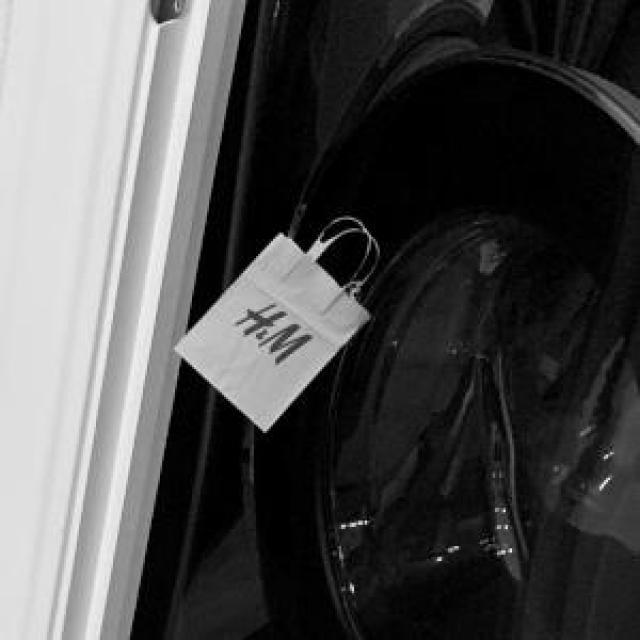paper: (171, 230, 367, 427)
